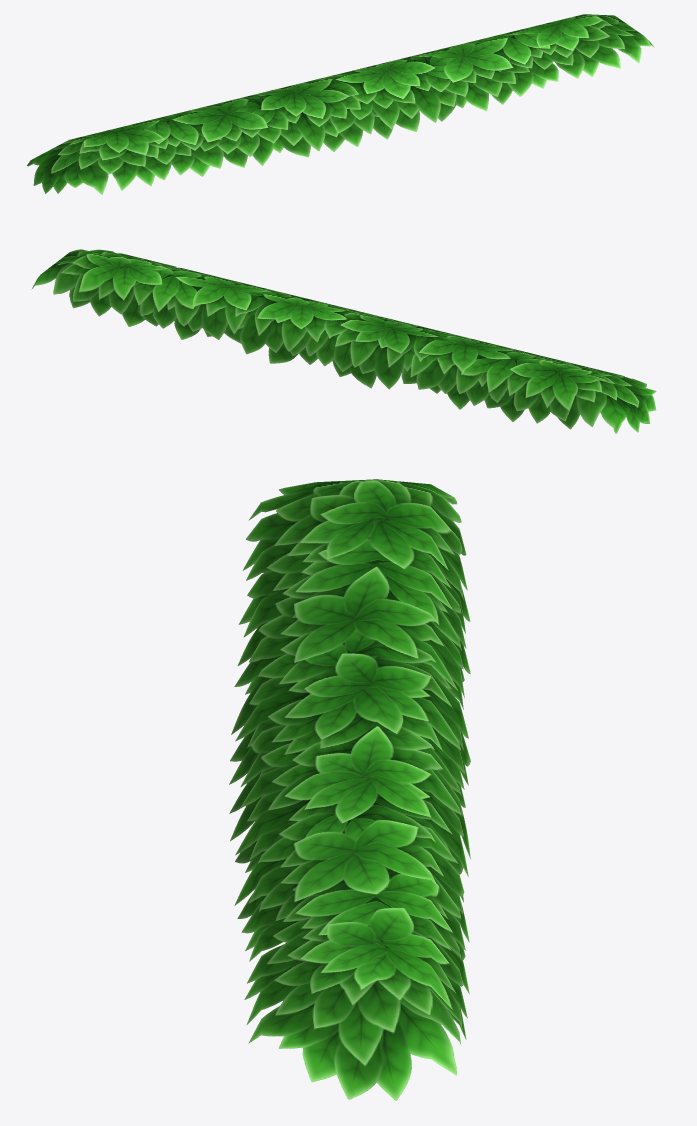
Rendered from sm_env_bushedging.fbx.
3 views of the same model, one above another, from view 1: azimuth 30°, elevation 25°; view 2: azimuth 150°, elevation 25°; view 3: azimuth 270°, elevation 25° (orthographic). The views are drawn at different scales.
Visible parts, largest first — view 1: pPlane21; view 2: pPlane21; view 3: pPlane21.
Boxes of the visible parts, x1=… form: pPlane21: x1=27, y1=14, x2=654, y2=194; pPlane21: x1=31, y1=249, x2=656, y2=433; pPlane21: x1=229, y1=479, x2=470, y2=1100.
Bounding box in the file's own units: 412 × 27 × 72.19.
